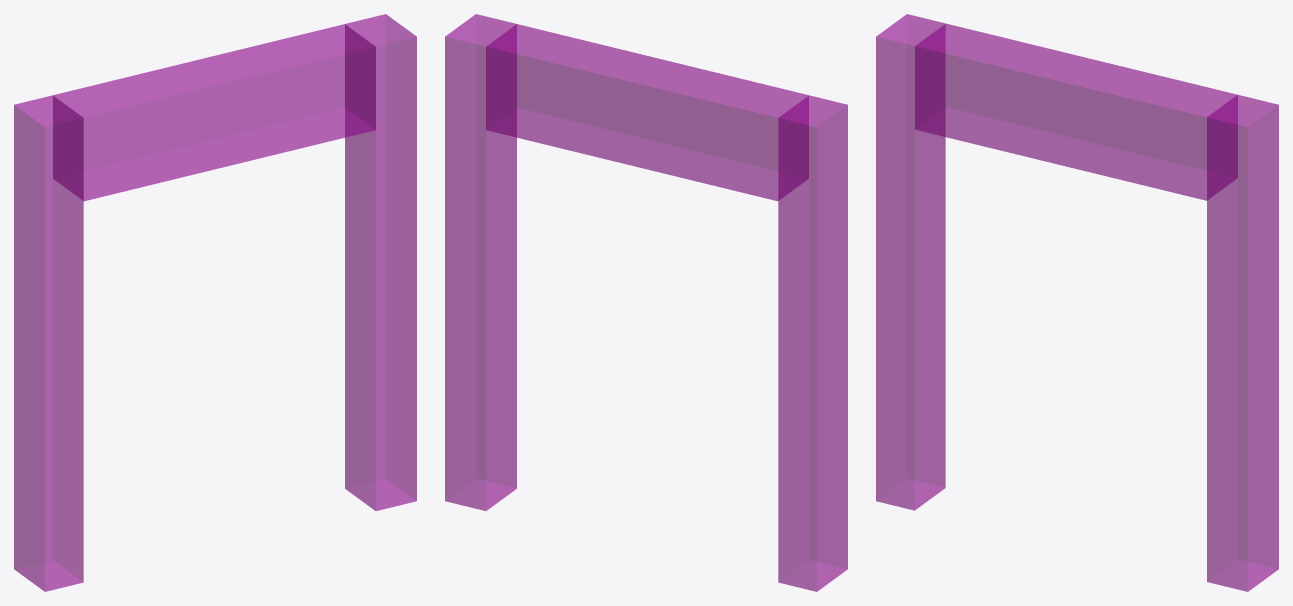
File: SM_Bld_Wall_Door_Double_Large_01_Collision.fbx
The picture shows the model from 3 angles, left to right: view 1: azimuth 30°, elevation 25°; view 2: azimuth 150°, elevation 25°; view 3: azimuth 330°, elevation 25°; orthographic projection.
Parts seen in each view (by area): view 1: SM_Bld_Wall_Door_Double_Large_01_Collision; view 2: SM_Bld_Wall_Door_Double_Large_01_Collision; view 3: SM_Bld_Wall_Door_Double_Large_01_Collision.
Boxes of the visible parts, x1,y1,x2,y2 form: SM_Bld_Wall_Door_Double_Large_01_Collision: (14,14,416,591); SM_Bld_Wall_Door_Double_Large_01_Collision: (445,14,847,591); SM_Bld_Wall_Door_Double_Large_01_Collision: (876,14,1278,591).
Size of the model in its own units: 253 by 302 by 36.52.
